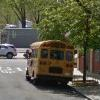Bus: (25, 38, 76, 85)
